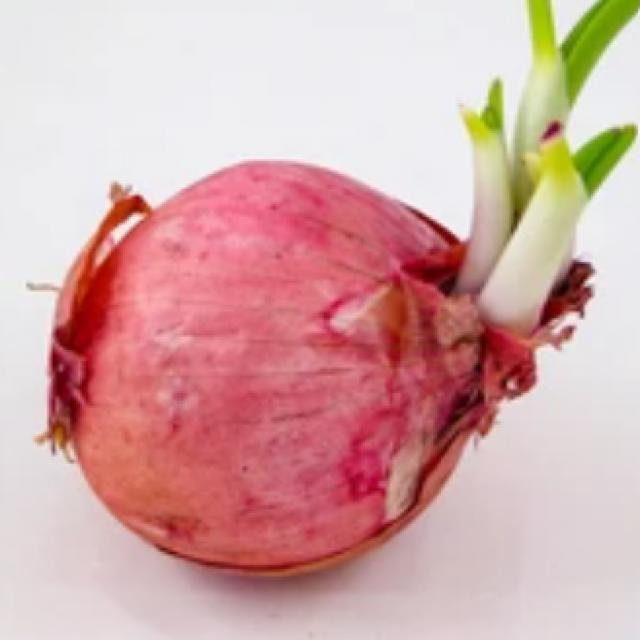sprouting: (456, 0, 640, 394)
